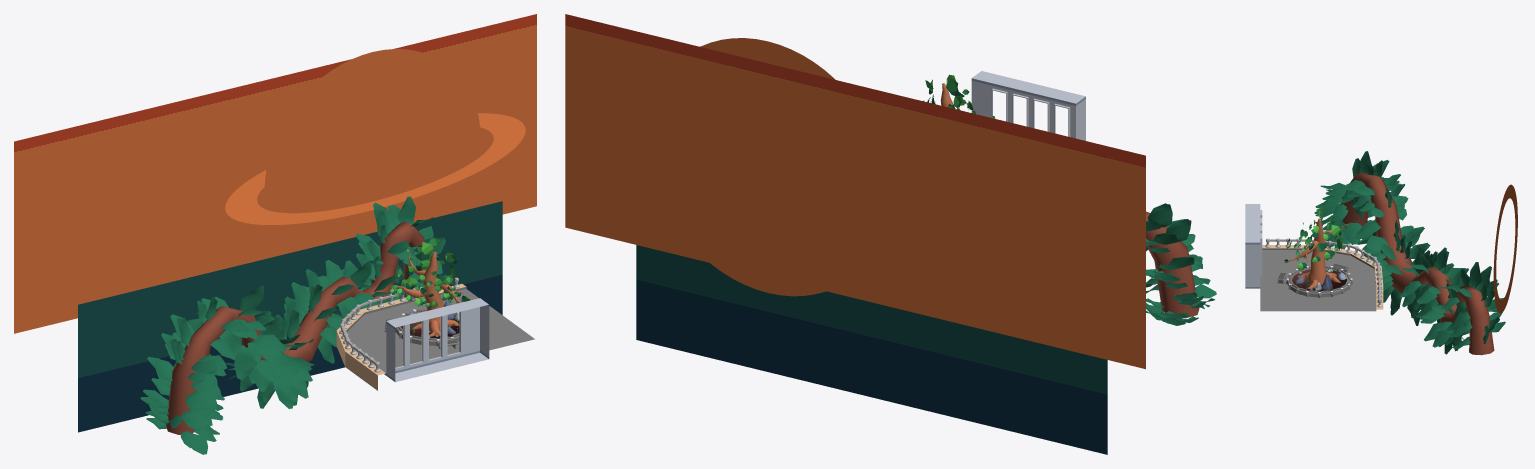
Rendered from room04.glb.
3 views of the same model, side by side, from view 1: azimuth 30°, elevation 25°; view 2: azimuth 150°, elevation 25°; view 3: azimuth 270°, elevation 25° (orthographic). The views are drawn at different scales.
Visible parts, largest first — view 1: Room04; view 2: Room04; view 3: Room04.
Part boxes in pixels (x1,y1,x2,y2): Room04: (14,14,536,454); Room04: (565,14,1216,454); Room04: (1245,151,1517,355).
Size of the model in its own units: 100 by 55.49 by 54.26.
Materials: 1 (1 with a texture image).
